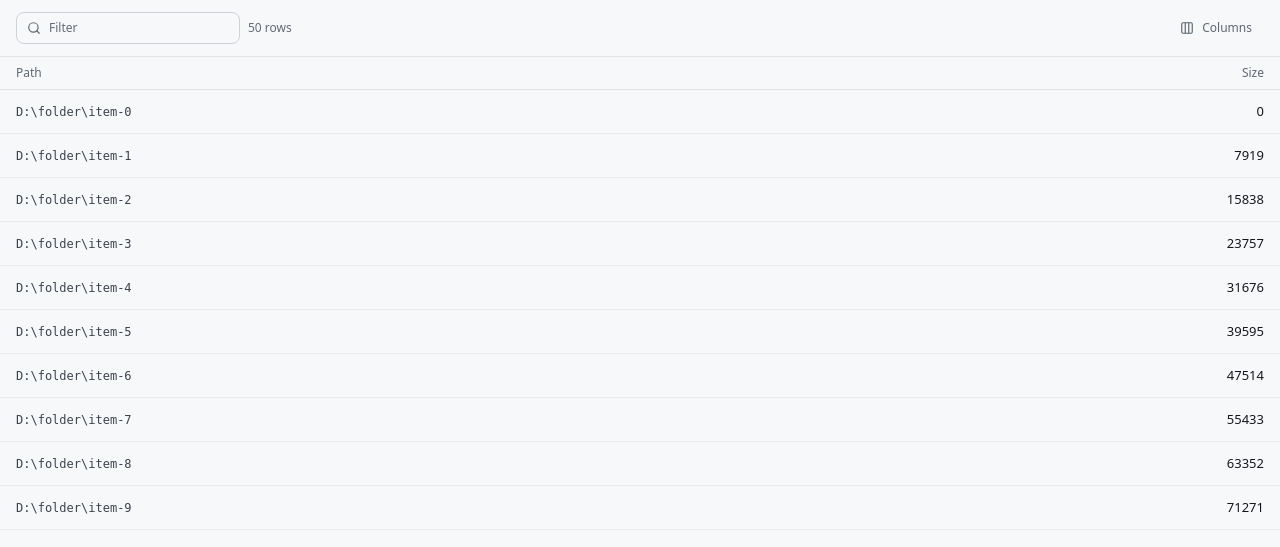
Test case: DataTable › filters rows and shows the empty message
The image size is (1280, 547).
Type "item-42" into the search field labelled "Filter". click: (139, 28)
box: [49,20,229,36]
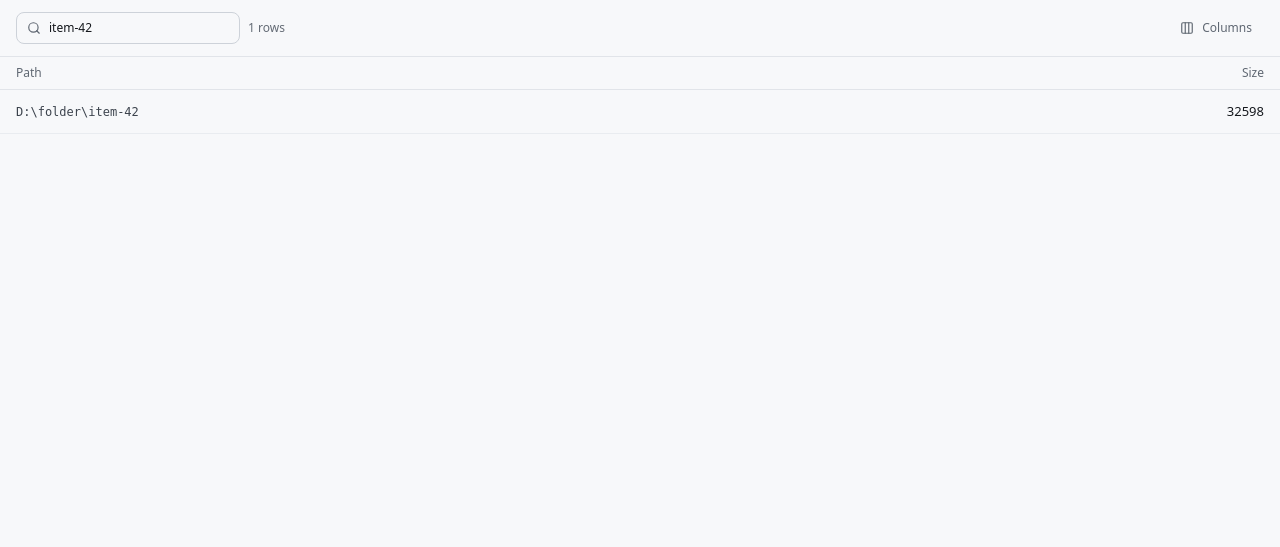
expect the text "1 rows" is shown: met, box [248,20,285,36]
Replace the text in the search field named "Filter" with "nothing-matches". click: (139, 28)
box: [49,20,229,36]
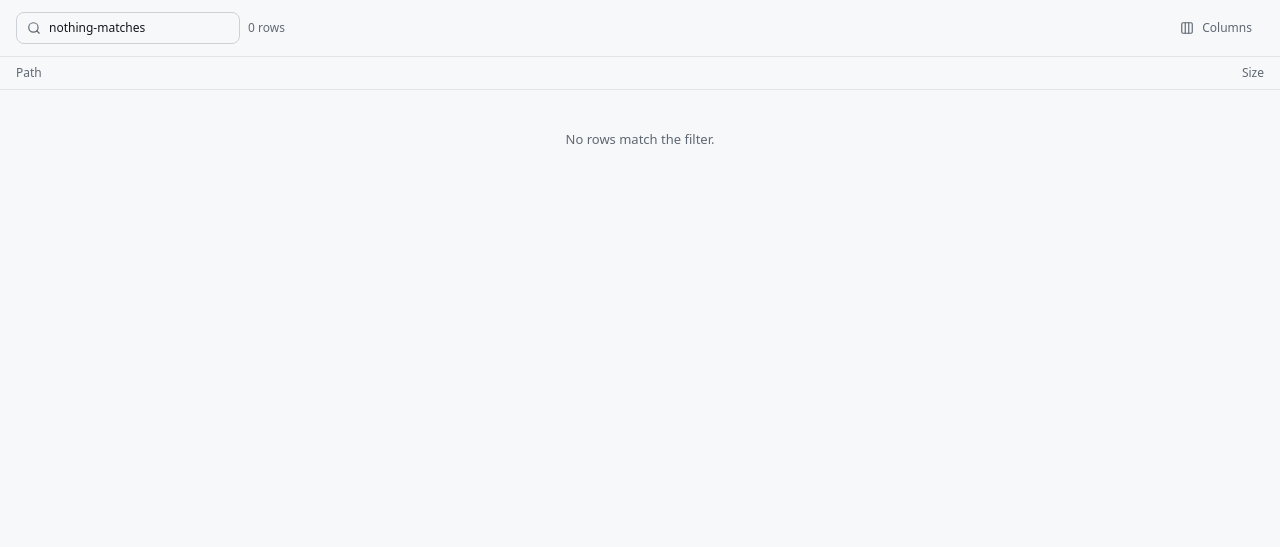
expect the text "No rows match the filter." is shown: met, box [566,130,714,148]
